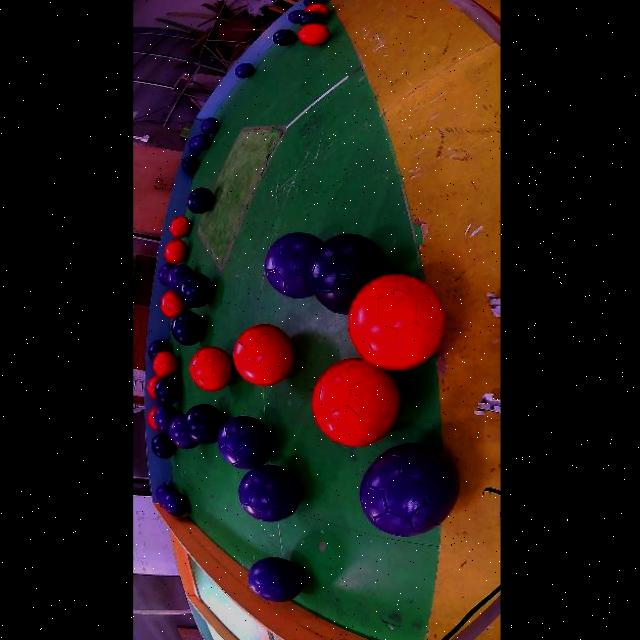B: (307, 234, 386, 315), (183, 404, 224, 445), (179, 272, 213, 308), (170, 311, 203, 345), (154, 376, 181, 405), (186, 188, 213, 214), (150, 433, 176, 459), (147, 340, 170, 361), (271, 30, 296, 46), (298, 12, 325, 26), (181, 156, 199, 173), (303, 0, 324, 7)
P: (360, 442, 458, 536), (238, 464, 301, 522), (264, 233, 320, 298), (216, 416, 273, 469), (247, 557, 303, 602), (168, 414, 197, 449), (167, 264, 192, 293), (162, 491, 188, 517), (153, 405, 178, 432), (156, 262, 174, 287), (154, 485, 174, 504), (187, 137, 209, 152), (200, 118, 219, 134), (234, 63, 254, 78), (193, 134, 210, 150), (287, 9, 303, 25)
R: (348, 274, 444, 371), (311, 358, 399, 448), (232, 325, 293, 386), (188, 347, 232, 391), (297, 23, 329, 46), (159, 290, 185, 318), (153, 352, 178, 377), (163, 239, 187, 264), (169, 216, 190, 238), (303, 4, 329, 17), (146, 376, 159, 399), (146, 407, 158, 431)
